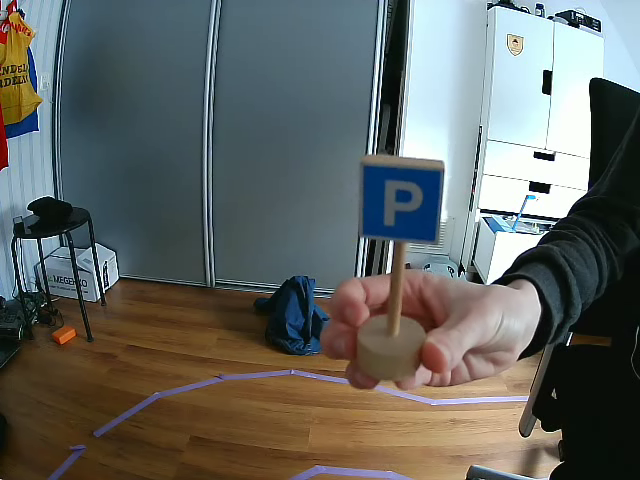parkeerbord: (359, 165, 444, 240)
